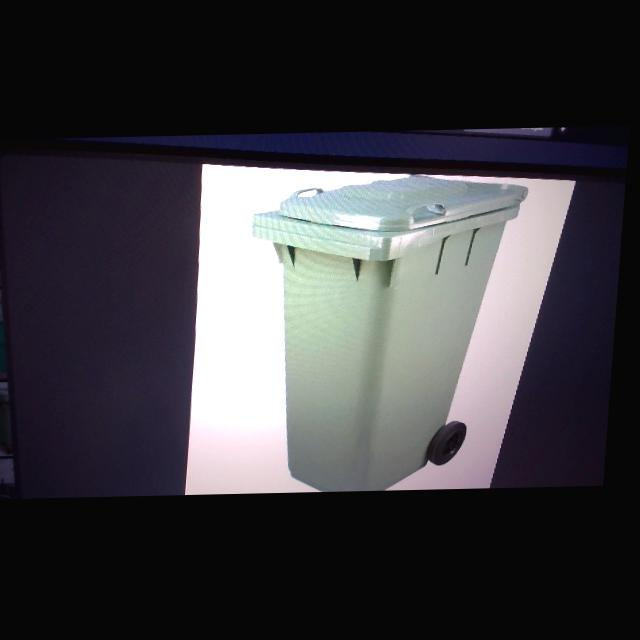Trash_Can_Closed: (240, 174, 532, 495)
